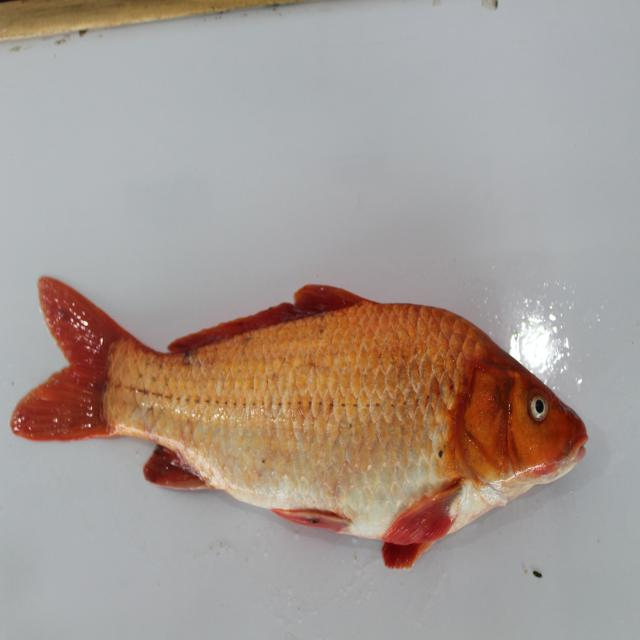Gold-Fish: (19, 141, 616, 607)
